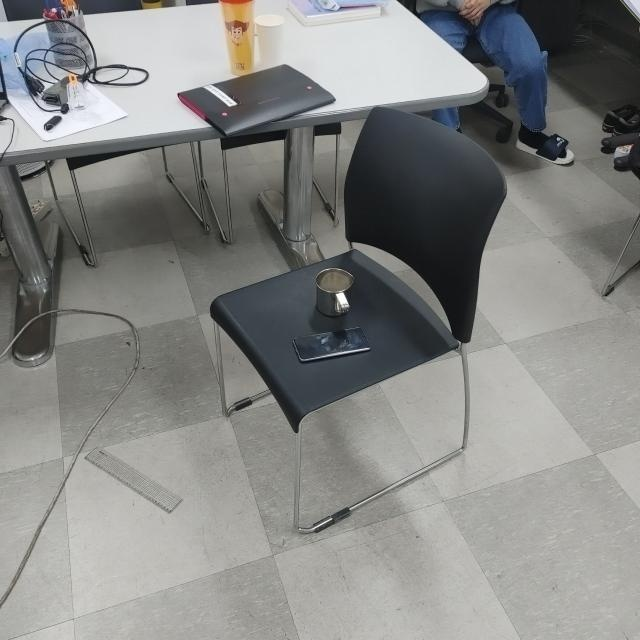cup: (314, 267, 356, 318)
phone: (292, 324, 372, 363)
